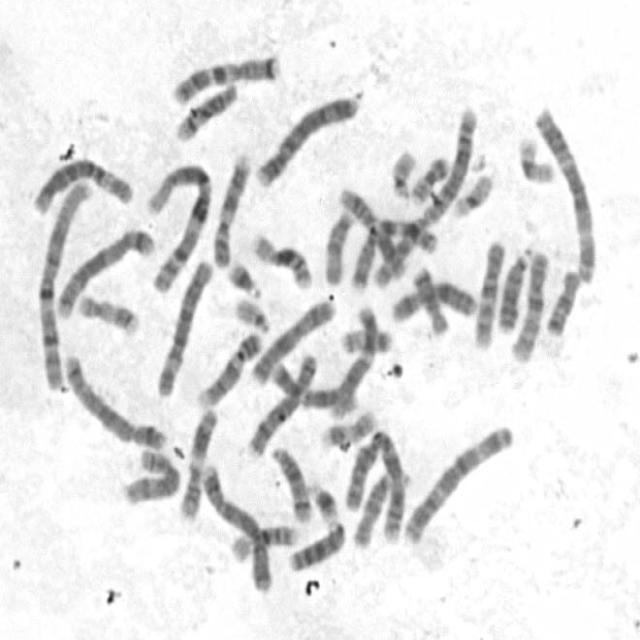A1: (33, 175, 92, 392), (141, 155, 216, 297)
A2: (366, 96, 483, 293), (342, 424, 409, 548)
A3: (398, 416, 518, 546), (530, 100, 600, 284)
B4: (249, 85, 361, 189), (197, 459, 274, 596)
B5: (59, 348, 169, 452), (52, 220, 157, 322)
C10: (506, 242, 553, 364), (468, 233, 508, 352)
C11: (334, 180, 411, 282), (178, 400, 220, 522)
C12: (326, 299, 378, 421), (266, 354, 358, 415)
C6: (153, 252, 216, 400), (29, 152, 136, 216)
C7: (345, 212, 439, 293), (167, 48, 283, 106)
C8: (245, 347, 319, 458), (120, 444, 184, 507)
C9: (192, 325, 265, 410), (210, 146, 254, 270)
D13: (495, 239, 536, 336), (285, 514, 348, 572)
D14: (172, 76, 240, 143), (266, 440, 314, 524)
D15: (348, 463, 411, 551), (321, 204, 357, 287)
E16: (246, 226, 314, 292), (226, 519, 302, 564)
E17: (72, 287, 142, 337), (318, 404, 379, 449)
E18: (409, 260, 453, 337), (543, 264, 584, 338)
F19: (448, 166, 496, 220), (513, 130, 558, 186)
F20: (407, 149, 450, 207), (338, 322, 394, 354)
G21: (223, 254, 265, 299), (304, 475, 342, 523)
G22: (386, 142, 418, 200), (232, 290, 273, 334)
X: (246, 293, 338, 388), (387, 273, 481, 324)
